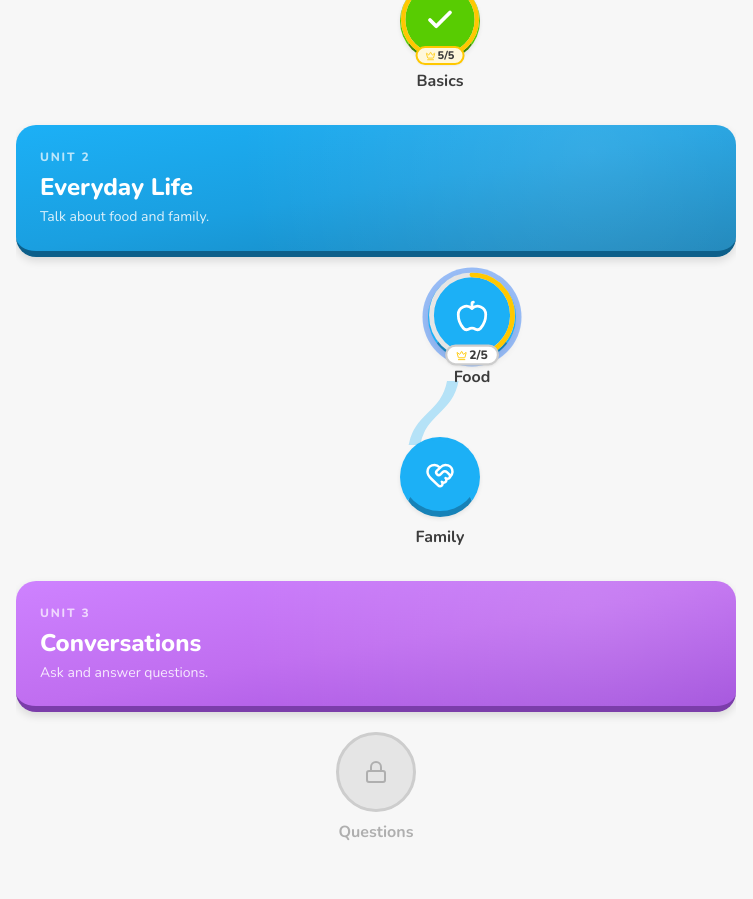
Test: LearningPath › does not navigate locked nodes and shows locked feedback
(page scrolled)
Click the button named "Questions, locked, 0 of 5 crowns": (376, 772) [336,732,416,812]
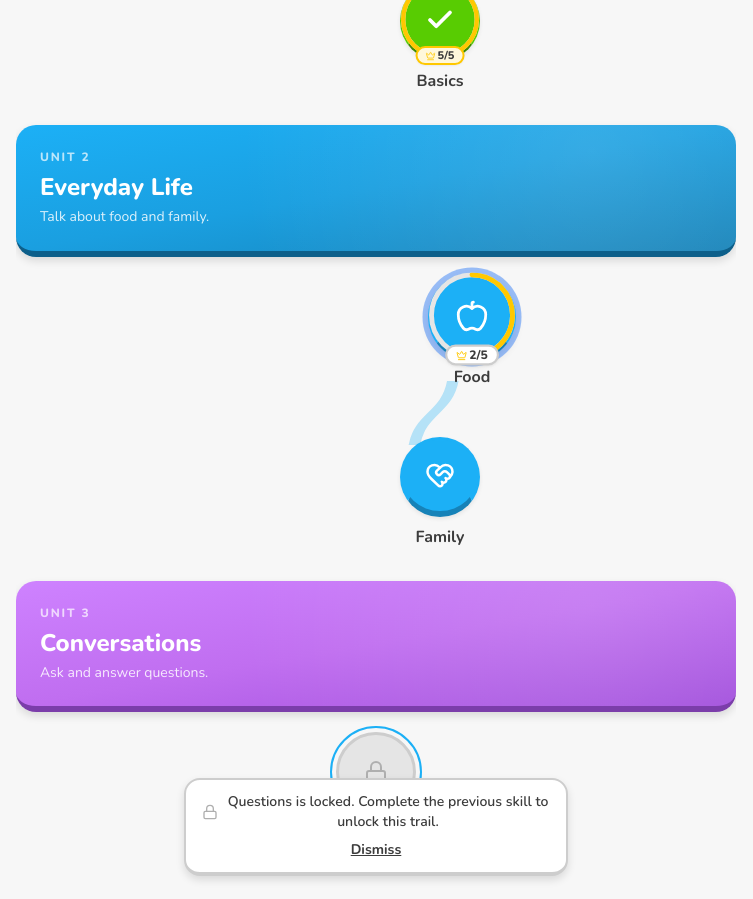
Result: the text "Questions is locked" is shown at [228,792,548,831]
